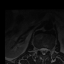CCS_normal: (42, 46, 45, 56)
LFS_normal: (48, 47, 50, 53)
LLS_normal: (45, 46, 48, 54)
RFS_stenosis: (37, 47, 39, 53)
RLS_normal: (40, 46, 42, 53)
